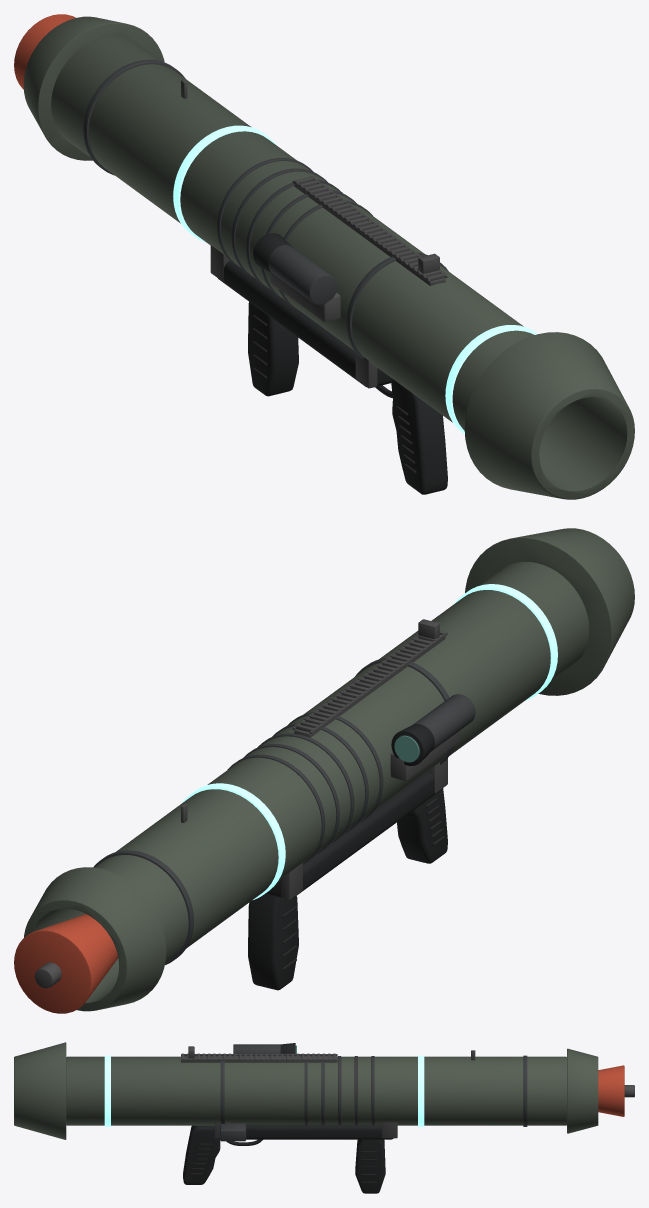
Rendered from rocket.glb.
3 renders of one model, top to bottom at view 1: azimuth 30°, elevation 25°; view 2: azimuth 150°, elevation 25°; view 3: azimuth 270°, elevation 25°, orthographic. The views are drawn at different scales.
Visible parts, largest first — view 1: Body, Rocket; view 2: Body, Rocket; view 3: Body, Rocket.
Boxes of the visible parts, x1=… form: Body: x1=23, y1=16, x2=634, y2=499; Rocket: x1=14, y1=14, x2=75, y2=89; Body: x1=24, y1=528, x2=634, y2=1011; Rocket: x1=14, y1=914, x2=118, y2=1013; Body: x1=14, y1=1042, x2=598, y2=1193; Rocket: x1=598, y1=1065, x2=634, y2=1116.
Bounding box in the file's own units: 0.2026 × 0.3037 × 1.19.
